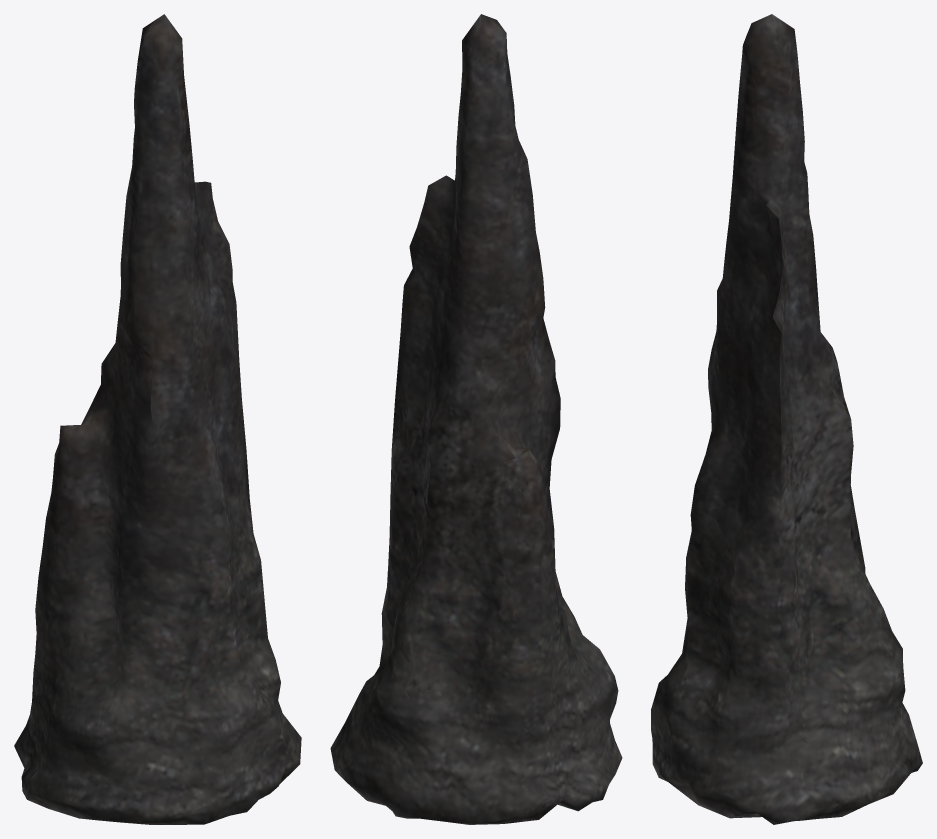
Rendered from CaveRockPack1_Low1.fbx.
The picture shows the model from 3 angles, left to right: view 1: azimuth 30°, elevation 25°; view 2: azimuth 150°, elevation 25°; view 3: azimuth 270°, elevation 25°; orthographic projection.
Parts seen in each view (by area): view 1: CaveRockPack1_Low1; view 2: CaveRockPack1_Low1; view 3: CaveRockPack1_Low1.
Boxes of the visible parts, x1,y1,x2,y2 form: CaveRockPack1_Low1: (14,14,301,824); CaveRockPack1_Low1: (330,14,622,824); CaveRockPack1_Low1: (651,14,922,824).
Bounding box in the file's own units: 1266 × 3599 × 1169.
